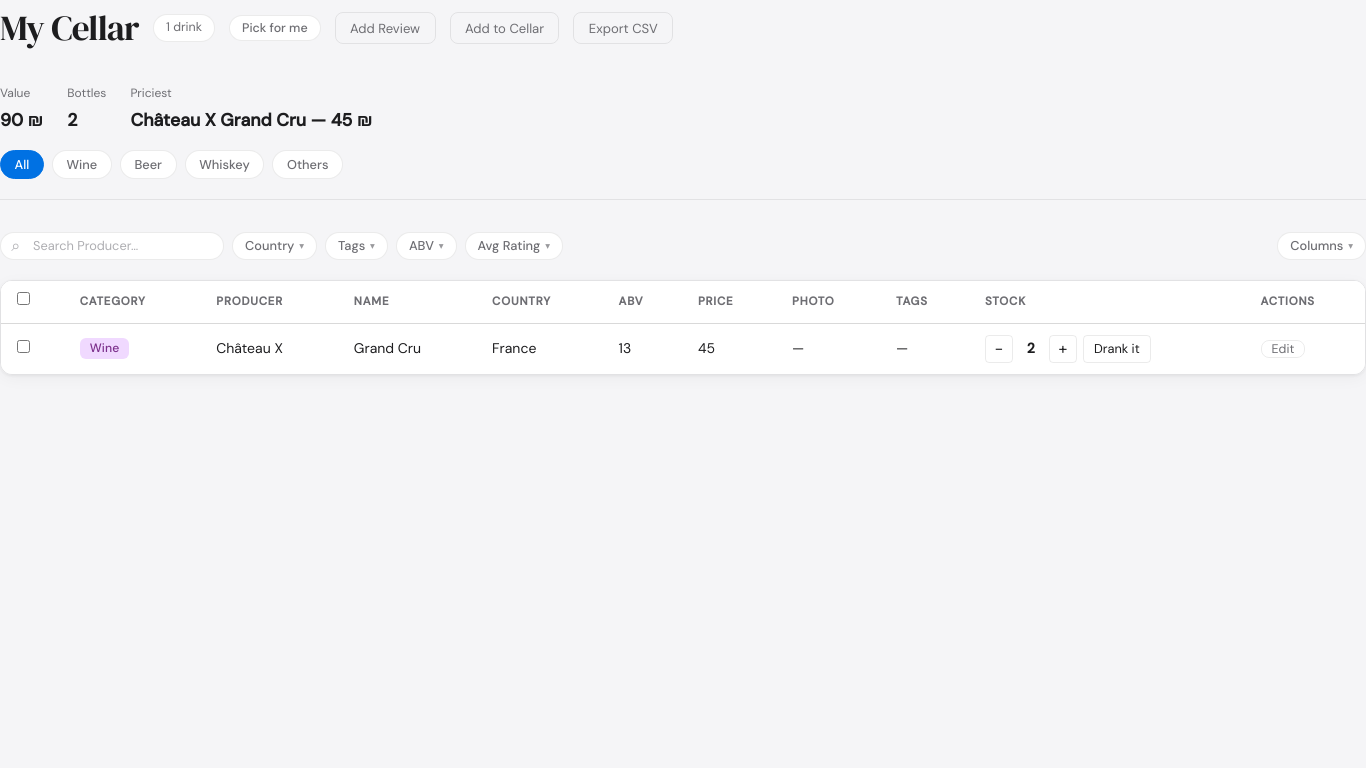
Test: spotlight dialog can be closed
The image size is (1366, 768).
expect the text "Grand Cru" is shown: met, box x1=338 y1=323 x2=476 y2=374
Click the button "Pick for me": point(275, 28) x1=229 y1=15 x2=321 y2=41
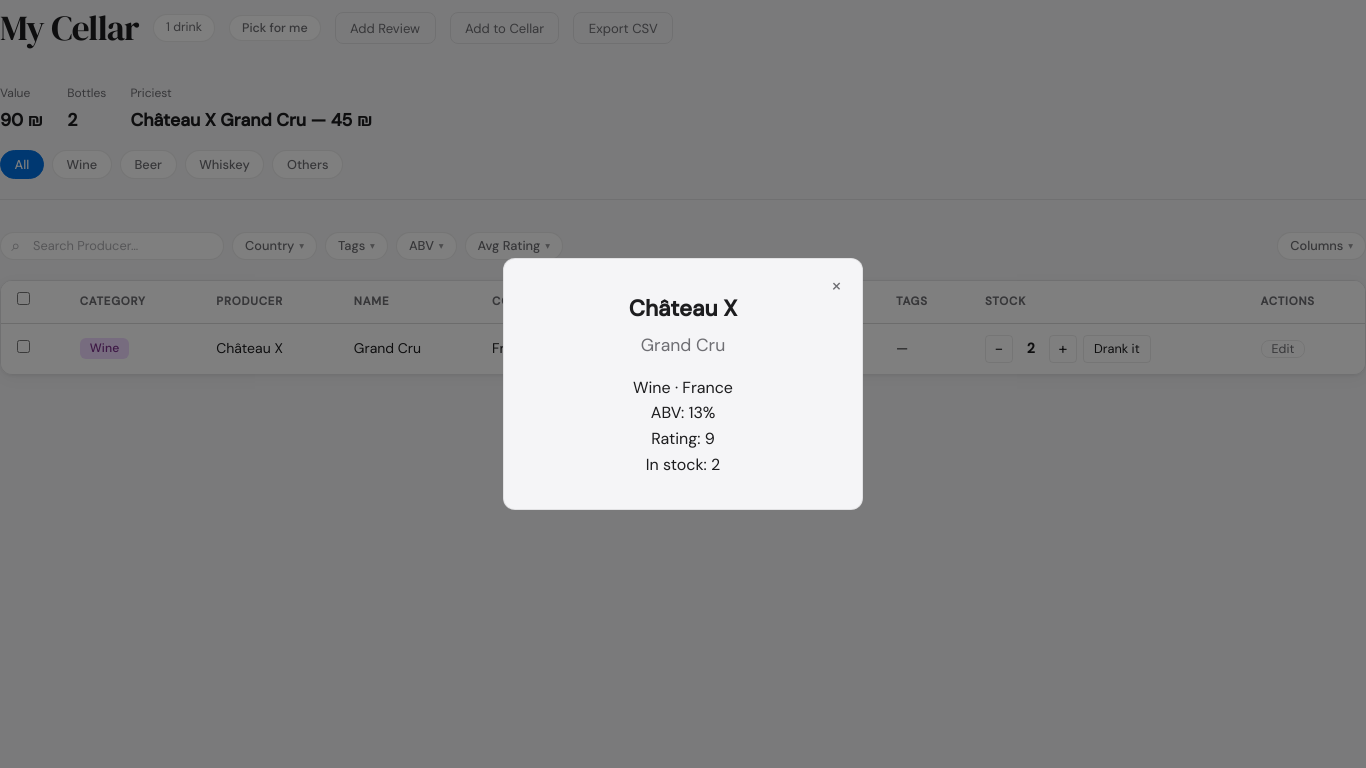
Click the button named "close": point(836, 285) x1=823 y1=271 x2=850 y2=299
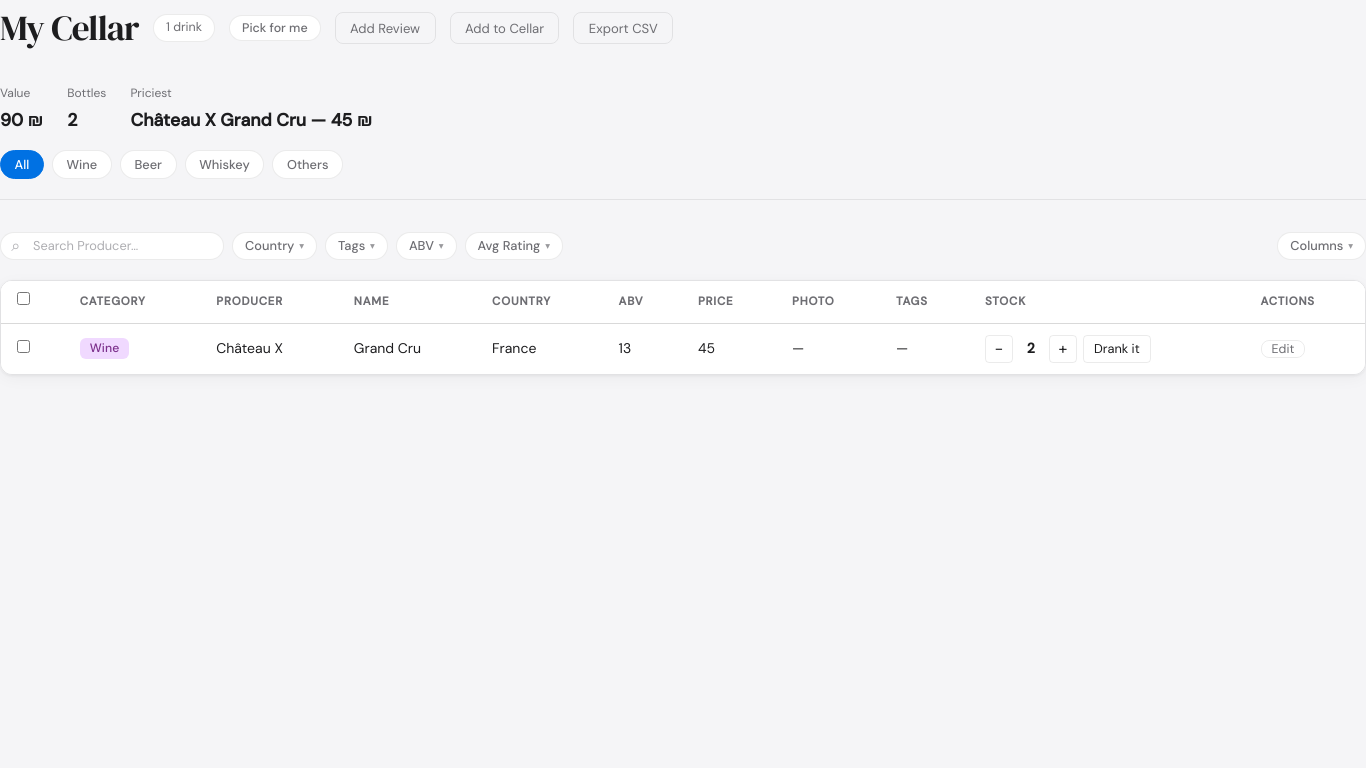
expect the dialog is gone: met
